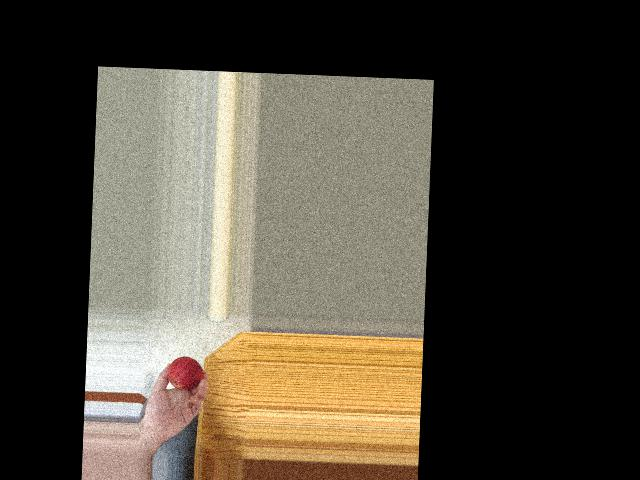apple: (165, 354, 205, 390)
